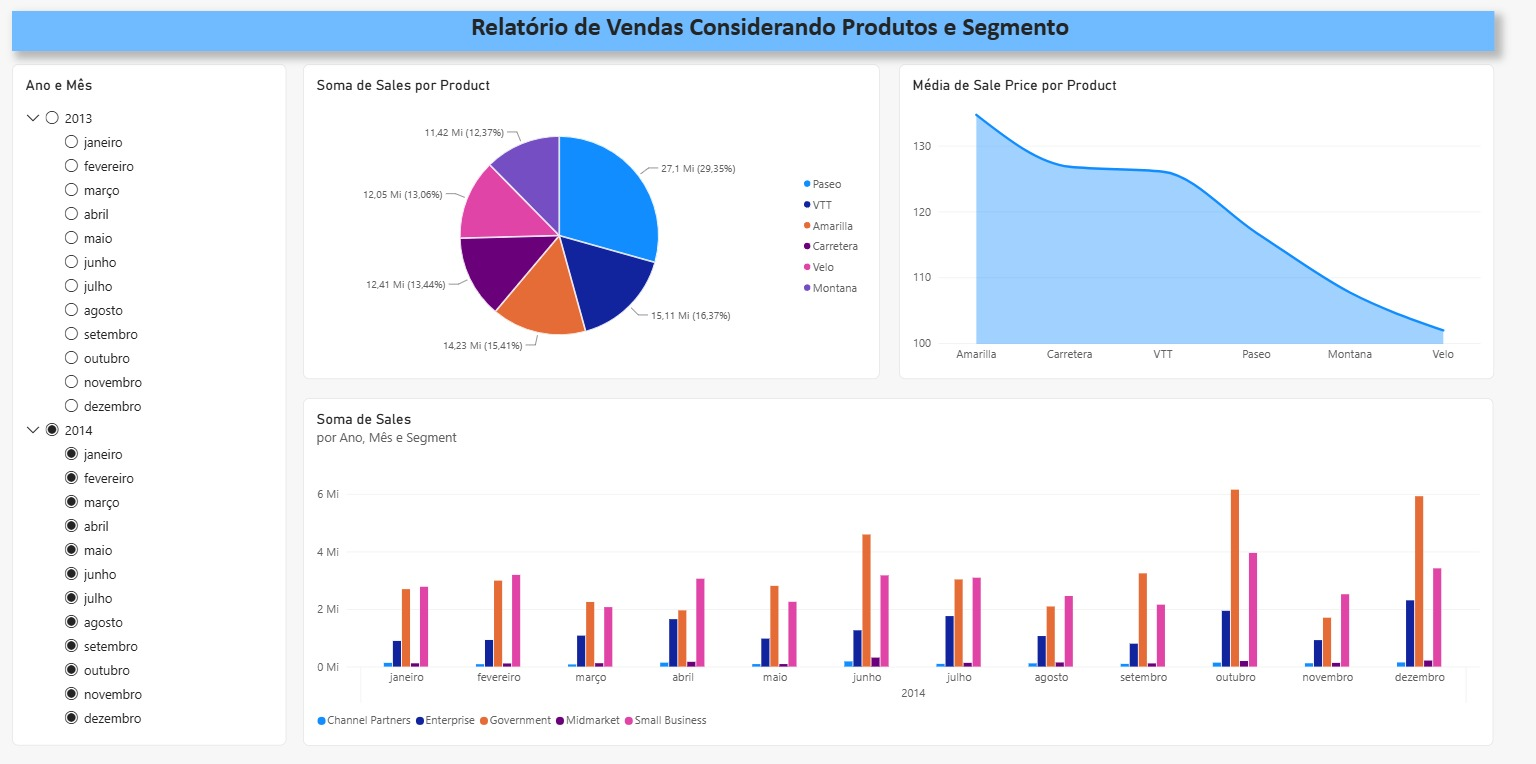

This screenshot's page, from the dashboard's own definition file:
{"tool":"powerbi","page":{"name":"Página 1","canvas":[1920,1080],"ordinal":0},"visuals":[{"type":"pieChart","fields":{"Category":["financials.Product"],"Y":["Sum(financials. Sales)"]},"box":[379.3,81.7,720.7,393.9],"z":0},{"type":"areaChart","fields":{"Category":["financials.Product"],"Y":["Avg(financials.Sale Price)"]},"box":[1123.4,81.7,744.1,393.9],"z":1000},{"type":"clusteredColumnChart","fields":{"Category":["financials.Date.Variation.Hierarquia de datas.Ano","financials.Date.Variation.Hierarquia de datas.Mês"],"Series":["financials.Segment"],"Y":["Sum(financials. Sales)"]},"box":[379.3,499,1488.1,434.8],"z":2000},{"type":"listSlicer","fields":{"Values":["financials.Date.Variation.Hierarquia de datas.Ano","financials.Date.Variation.Hierarquia de datas.Mês"]},"box":[14.6,81.7,342.9,852],"z":3000},{"type":"textbox","box":[14.6,14.6,1852.9,49.6],"z":4000}]}

Visuals, with their boxes on the page's 1920x1080 design canvas (x1, y1, x2, y2). These are canvas units, not pixel positions in the 1536x764 screenshot, which may show the page scaled, cropped or inside an application window:
pieChart - financials.Product x Sum(financials. Sales): x1=379 y1=82 x2=1100 y2=476
areaChart - financials.Product x Avg(financials.Sale Price): x1=1123 y1=82 x2=1868 y2=476
clusteredColumnChart - financials.Date.Variation.Hierarquia de datas.Ano x financials.Date.Variation.Hierarquia de datas.Mês: x1=379 y1=499 x2=1867 y2=934
listSlicer - financials.Date.Variation.Hierarquia de datas.Ano x financials.Date.Variation.Hierarquia de datas.Mês: x1=15 y1=82 x2=358 y2=934
textbox: x1=15 y1=15 x2=1868 y2=64
